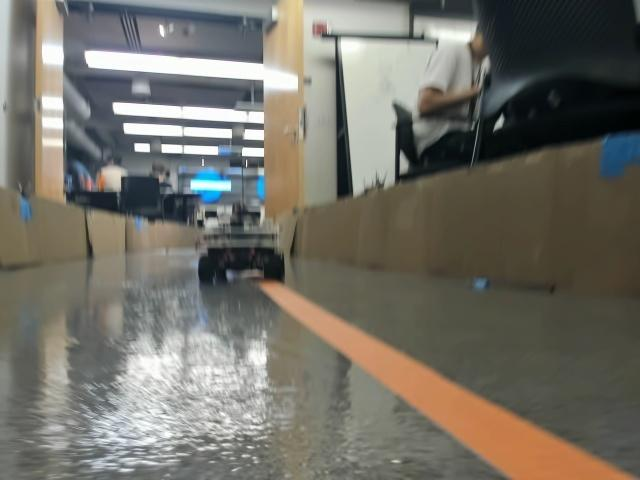Car: (196, 209, 285, 280)
